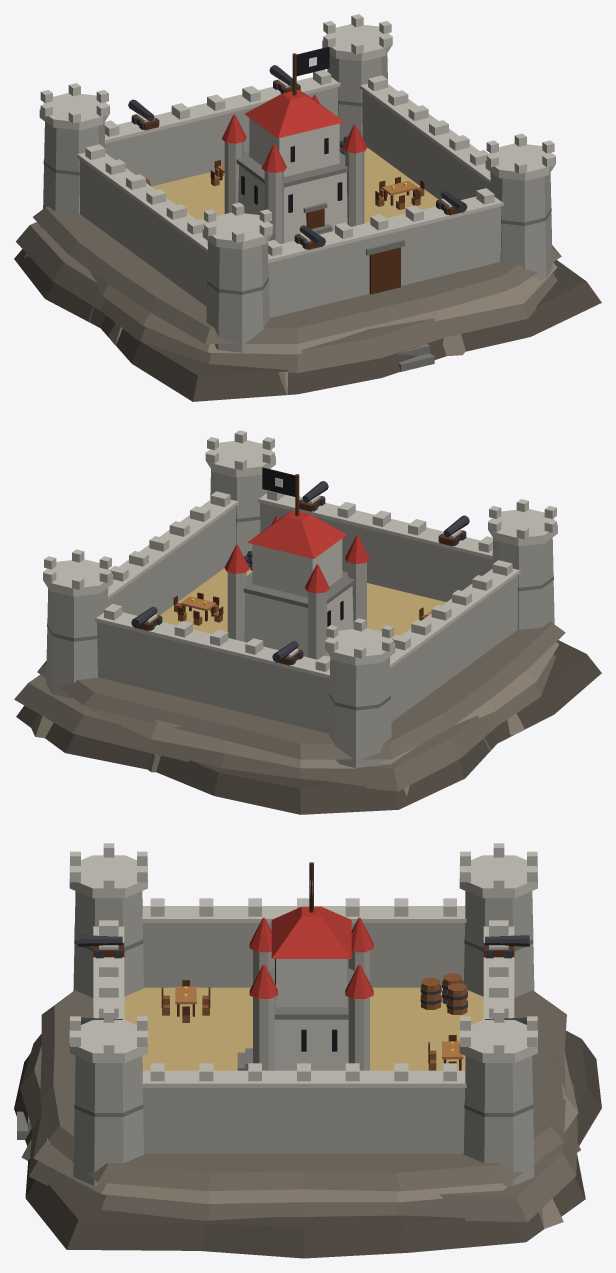
File: sea-fort-4x4.glb
3 renders of one model, top to bottom at view 1: azimuth 30°, elevation 25°; view 2: azimuth 150°, elevation 25°; view 3: azimuth 270°, elevation 25°, orthographic. The views are drawn at different scales.
Parts seen in each view (by area): view 1: SeaFort4x4; view 2: SeaFort4x4; view 3: SeaFort4x4.
Part boxes in pixels (x1,y1,x2,y2): SeaFort4x4: (14, 14, 601, 401); SeaFort4x4: (14, 430, 601, 814); SeaFort4x4: (14, 843, 601, 1258).
Size of the model in its own units: 3.85 by 1.91 by 3.81.
1 material, 1 textured.
